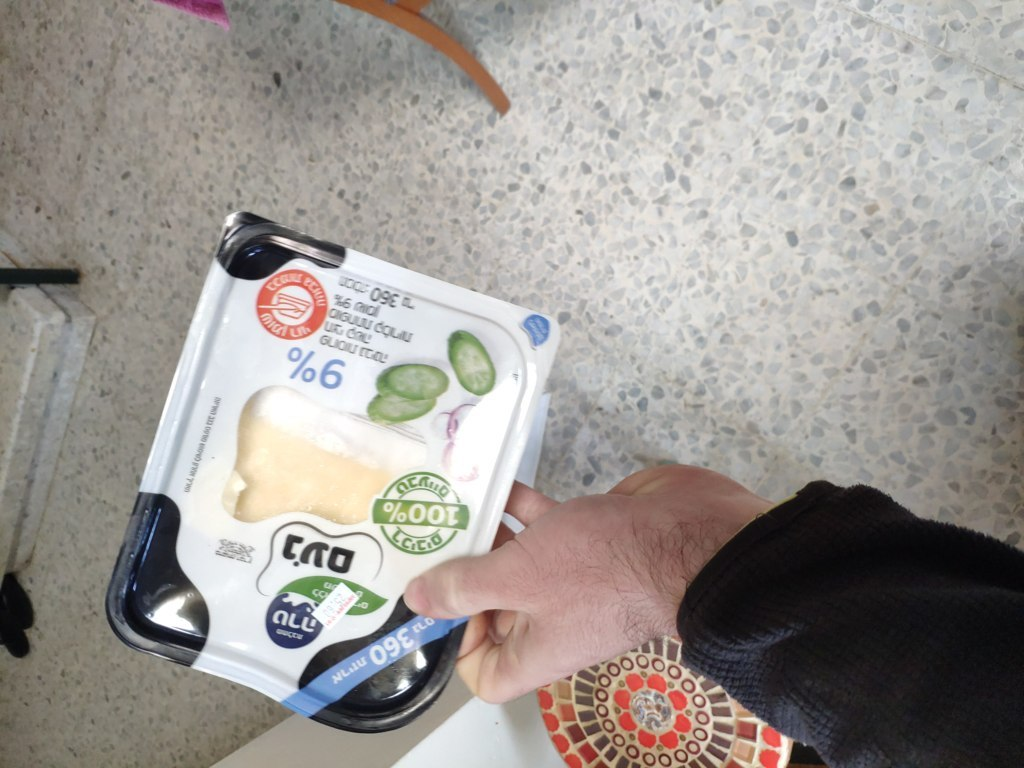Cheese: (165, 271, 488, 687)
